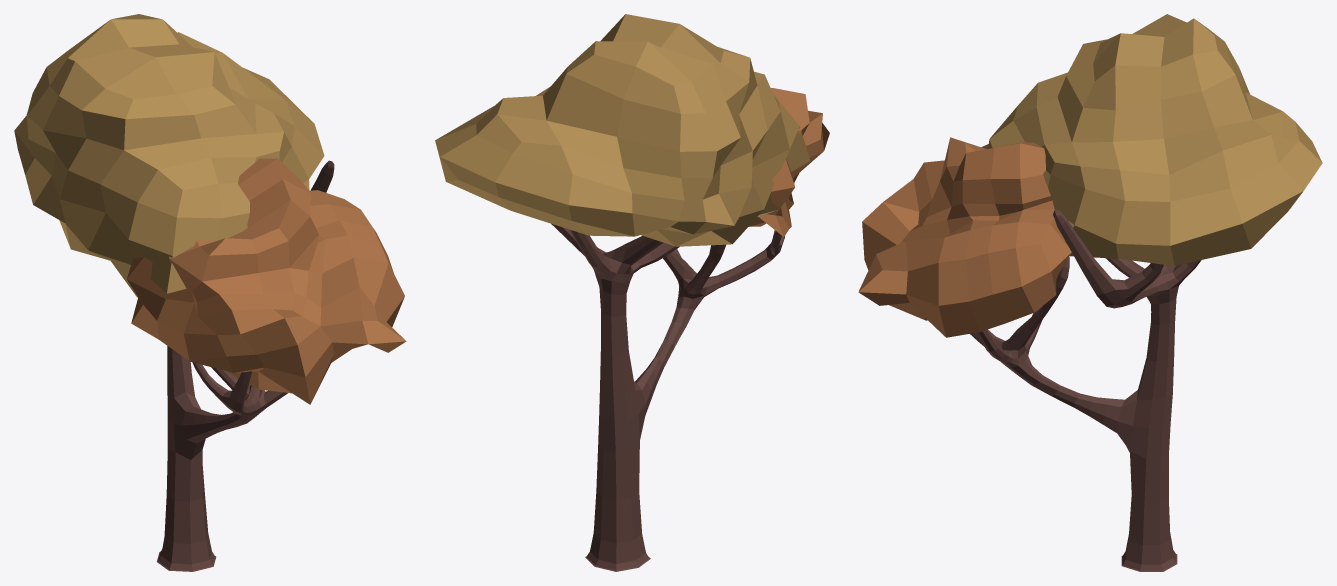
File: CommonTree_Autumn_2.glb
The picture shows the model from 3 angles, left to right: view 1: azimuth 30°, elevation 25°; view 2: azimuth 150°, elevation 25°; view 3: azimuth 270°, elevation 25°; orthographic projection. The views are drawn at different scales.
Visible parts, largest first — view 1: CommonTree_Autumn_2; view 2: CommonTree_Autumn_2; view 3: CommonTree_Autumn_2.
Boxes of the visible parts, box(x1,y1,x2,y2) form: CommonTree_Autumn_2: box(14, 14, 406, 571); CommonTree_Autumn_2: box(435, 14, 829, 571); CommonTree_Autumn_2: box(858, 14, 1322, 571).
Size of the model in its own units: 1.66 by 3.12 by 2.54.
